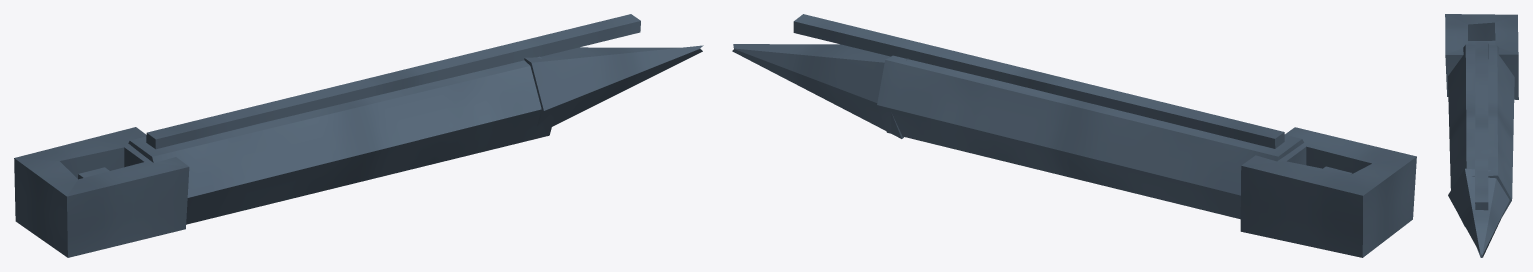
Rendered from needle_rare.glb.
3 renders of one model, left to right at view 1: azimuth 30°, elevation 25°; view 2: azimuth 150°, elevation 25°; view 3: azimuth 270°, elevation 25°, orthographic. The views are drawn at different scales.
Parts seen in each view (by area): view 1: NeedleRare; view 2: NeedleRare; view 3: NeedleRare.
Boxes of the visible parts, box(x1,y1,x2,y2) form: NeedleRare: box(14, 14, 703, 257); NeedleRare: box(732, 14, 1416, 257); NeedleRare: box(1445, 14, 1518, 257).
Size of the model in its own units: 0.3368 by 0.0416 by 0.0477.
Materials: 1 (1 with a texture image).
